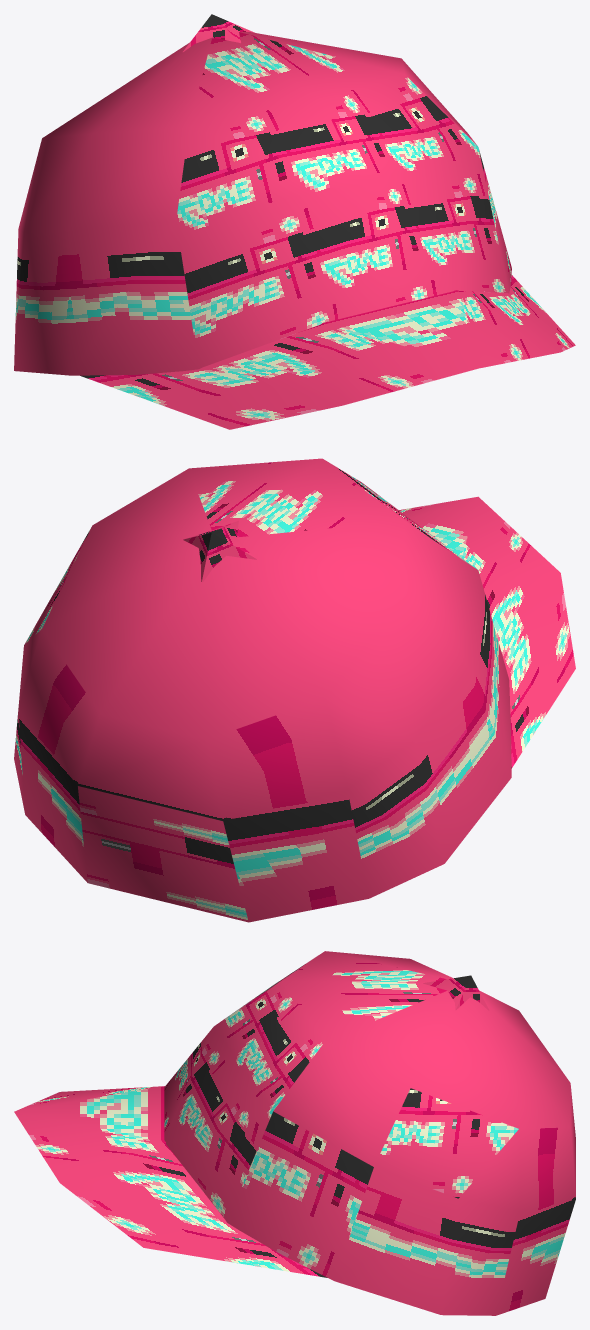
File: code_head84.gltf
The picture shows the model from 3 angles, top to bottom: view 1: azimuth 30°, elevation 25°; view 2: azimuth 150°, elevation 25°; view 3: azimuth 270°, elevation 25°; orthographic projection. The views are drawn at different scales.
Visible parts, largest first — view 1: code_head84; view 2: code_head84; view 3: code_head84.
Boxes of the visible parts, x1,y1,x2,y2 form: code_head84: [14, 14, 575, 429]; code_head84: [14, 458, 575, 922]; code_head84: [14, 951, 575, 1315].
Bounding box in the file's own units: 0.6904 × 0.5063 × 0.8899.
1 material, 1 textured.
